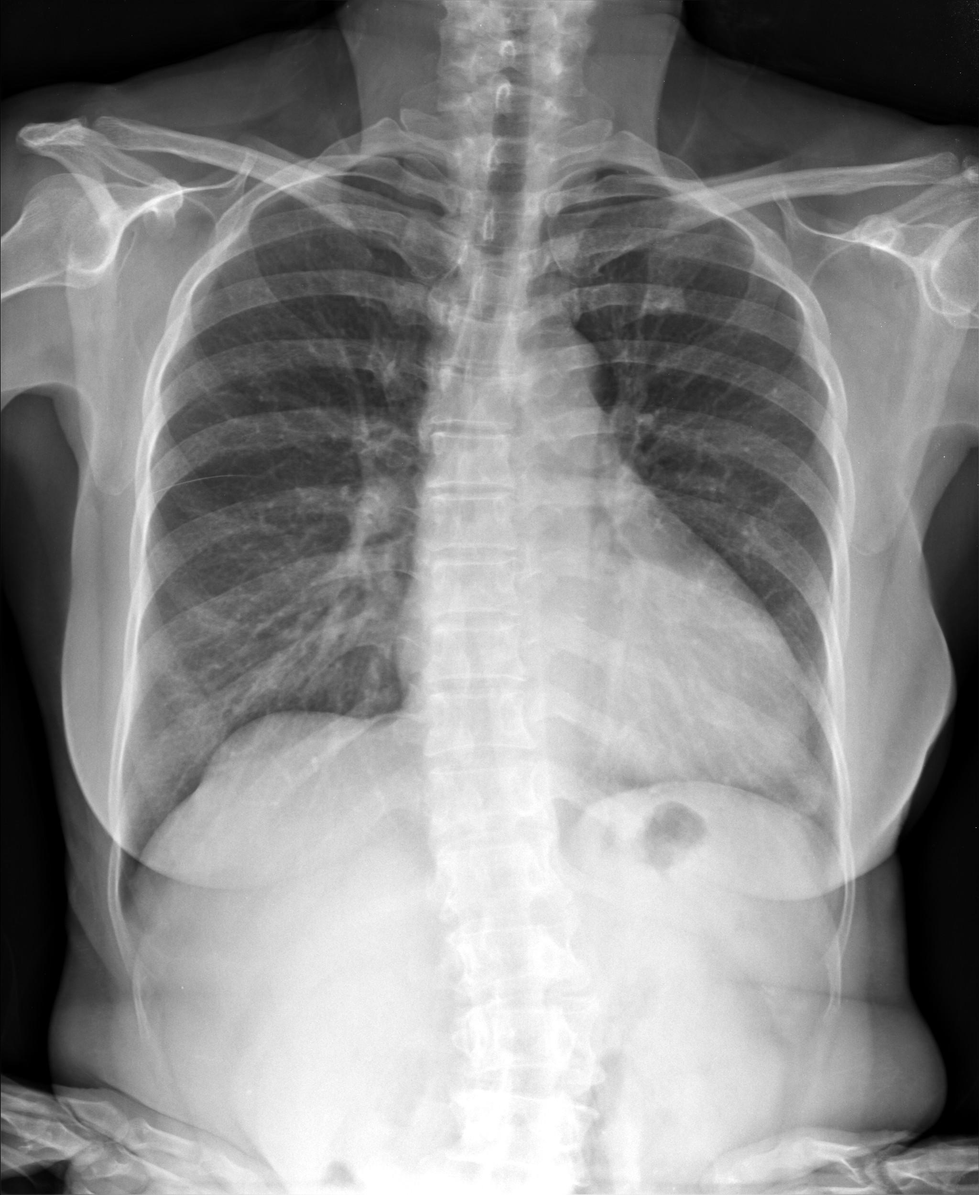Aortic enlargement: (483, 299, 604, 426)
Cardiomegaly: (387, 595, 814, 812)
